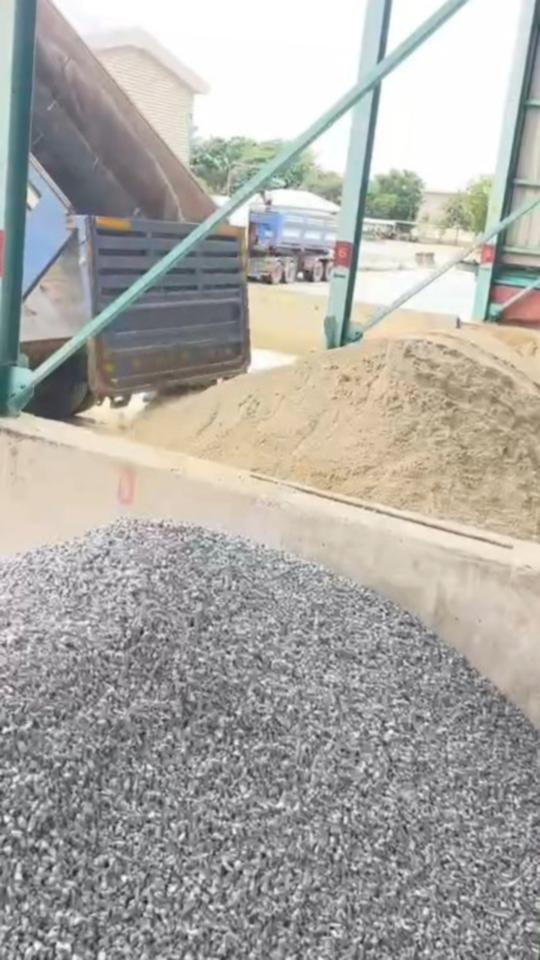gravel: (0, 520, 540, 960)
sand: (129, 328, 540, 547), (471, 323, 540, 381)
